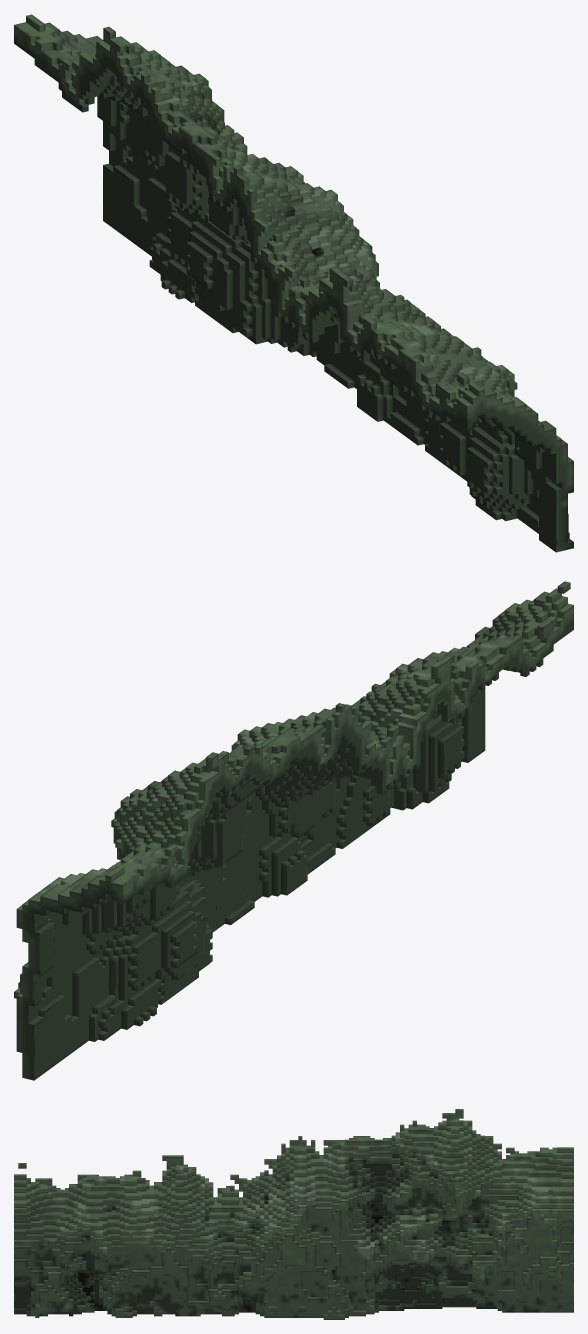
File: treeline01-8-9r.fbx
The picture shows the model from 3 angles, top to bottom: view 1: azimuth 30°, elevation 25°; view 2: azimuth 150°, elevation 25°; view 3: azimuth 270°, elevation 25°; orthographic projection. The views are drawn at different scales.
Parts seen in each view (by area): view 1: treeline01-8-9r; view 2: treeline01-8-9r; view 3: treeline01-8-9r.
Boxes of the visible parts, left/top/right/bottom form: treeline01-8-9r: left=14, top=14, right=573, bottom=552; treeline01-8-9r: left=14, top=581, right=573, bottom=1080; treeline01-8-9r: left=14, top=1109, right=573, bottom=1319.
Bounding box in the file's own units: 21 × 45 × 132.
